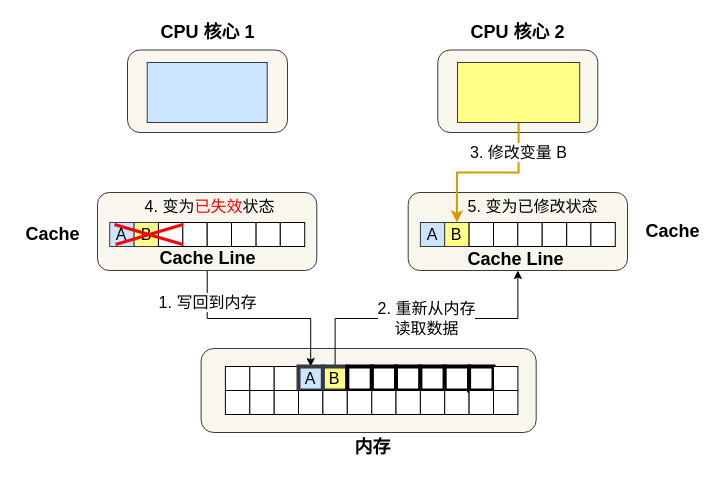
Image size: 724x479. Some labels were removed from this diagram. Each missing label, with the centre of its shape:
"A 线程" belongs at point (206, 92).
"B 线程" belongs at point (518, 92).
